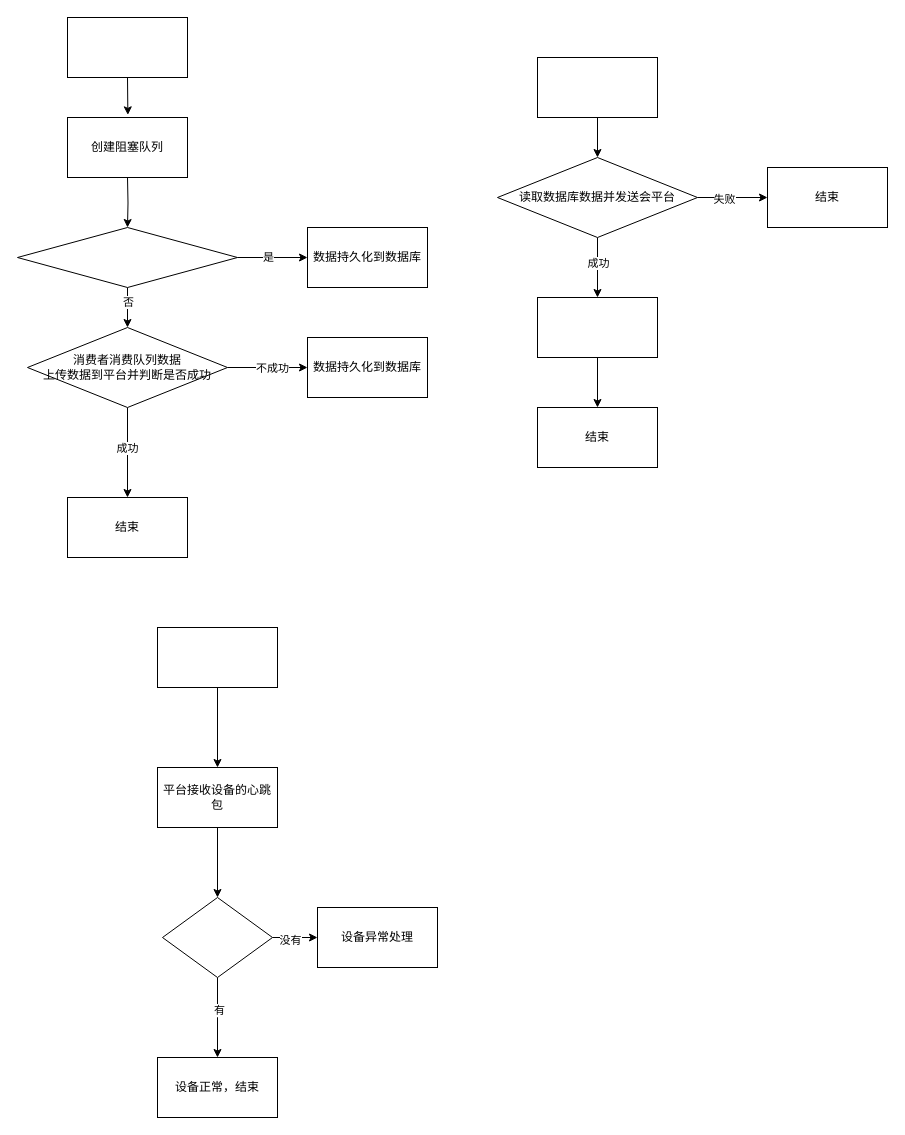
The diagram is 905 pixels wide and 1135 high, and some of its shapes have lost their labels. The centre of each missing label's shape, as x and y in pixels:
创建多线程消费者监听阻塞队列: the point at 127,47
创建异步线程: the point at 597,87
删除数据库记录: the point at 597,327
判断是否有心跳: the point at 217,937
开始接收传感器数据 判断队列是否写满: the point at 127,257
每个设备发送高频的心跳包: the point at 217,657
